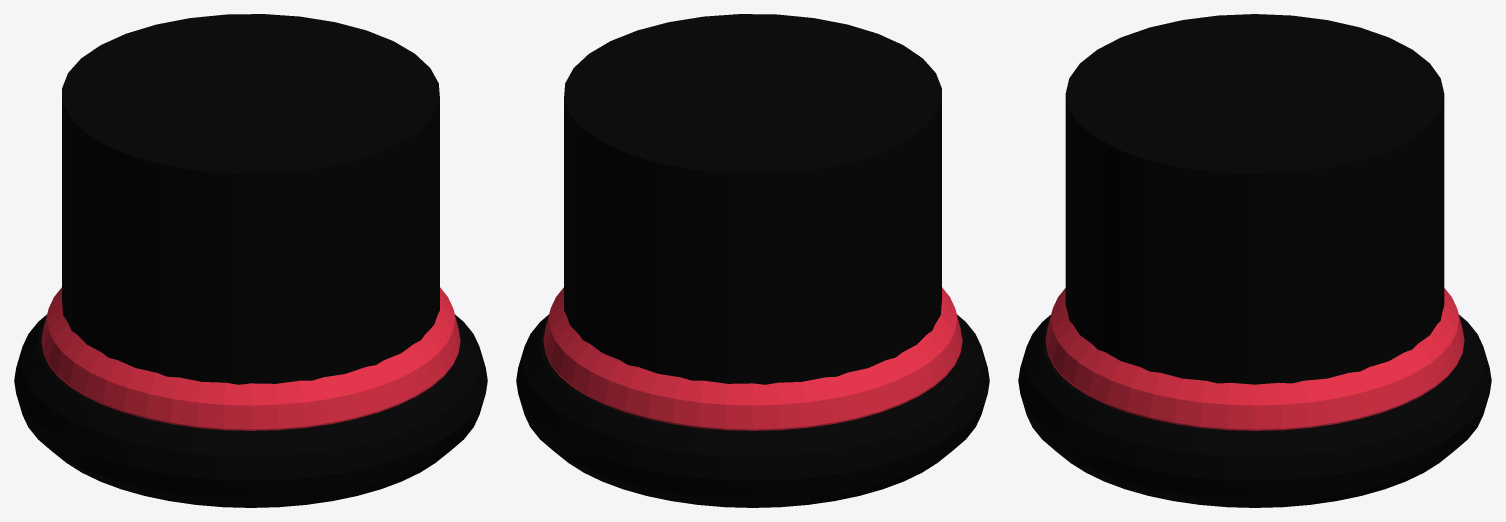
The model's file is TopHat.fbx.
The picture shows the model from 3 angles, left to right: view 1: azimuth 30°, elevation 25°; view 2: azimuth 150°, elevation 25°; view 3: azimuth 270°, elevation 25°; orthographic projection.
Visible parts, largest first — view 1: Cylinder, Torus, Torus.001; view 2: Cylinder, Torus, Torus.001; view 3: Cylinder, Torus, Torus.001.
Boxes of the visible parts, box(x1,y1,x2,y2) form: Cylinder: box(62, 14, 439, 384); Torus: box(14, 314, 487, 507); Torus.001: box(41, 287, 460, 430); Cylinder: box(564, 14, 941, 384); Torus: box(516, 314, 989, 507); Torus.001: box(543, 287, 962, 430); Cylinder: box(1065, 14, 1444, 384); Torus: box(1018, 315, 1491, 507); Torus.001: box(1045, 288, 1464, 430).
Bounding box in the file's own units: 250 × 192 × 250.
